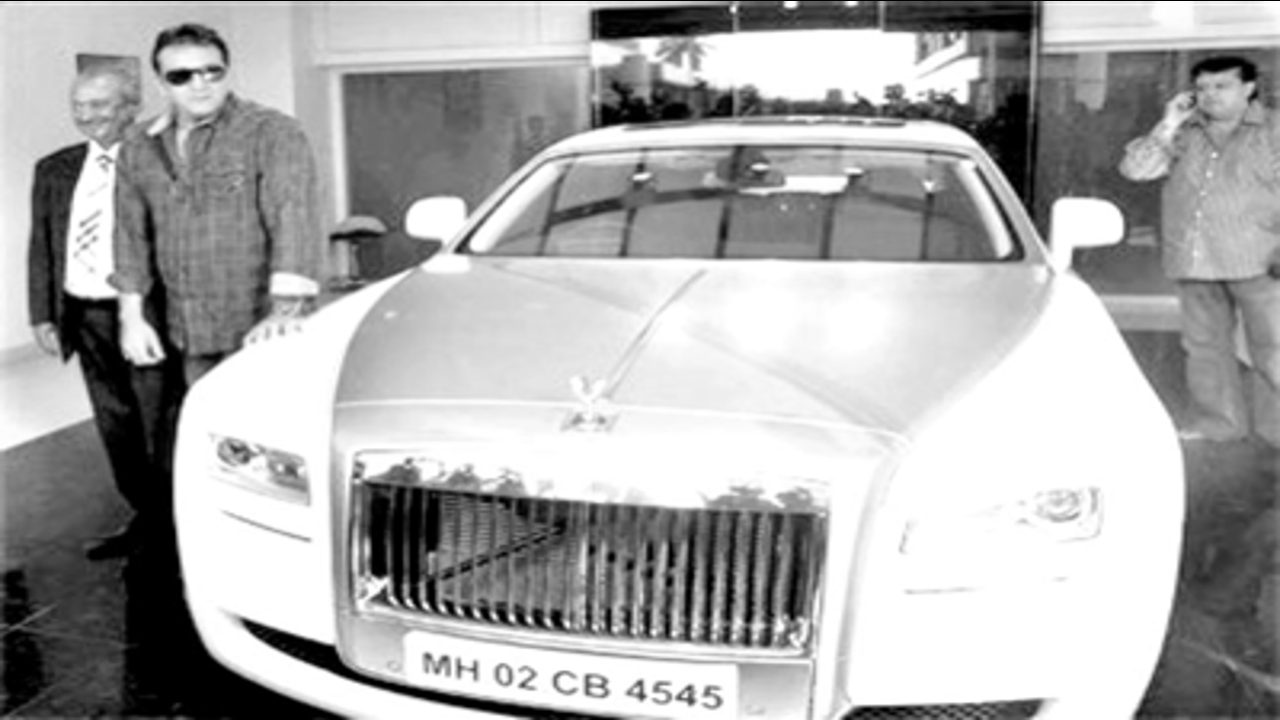license: (389, 617, 754, 720)
